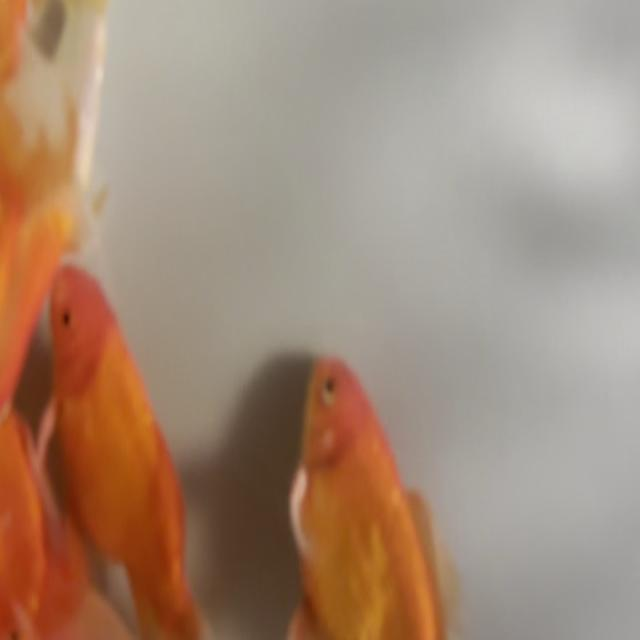fish: (271, 340, 521, 640), (45, 264, 221, 640), (0, 149, 63, 546), (0, 0, 83, 227)
